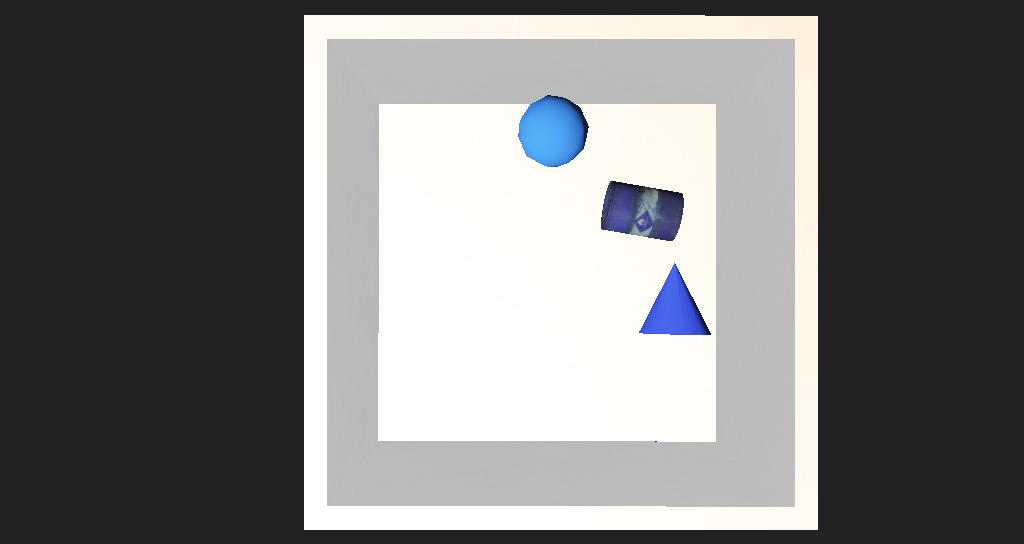cone: (556, 210, 630, 248)
cylinder: (586, 260, 653, 313)
sphere: (482, 160, 542, 203)
